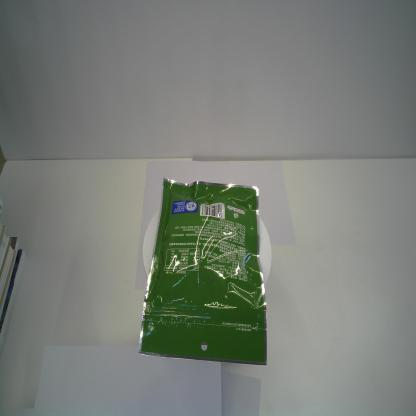Dried Fruit: (137, 174, 267, 367)
